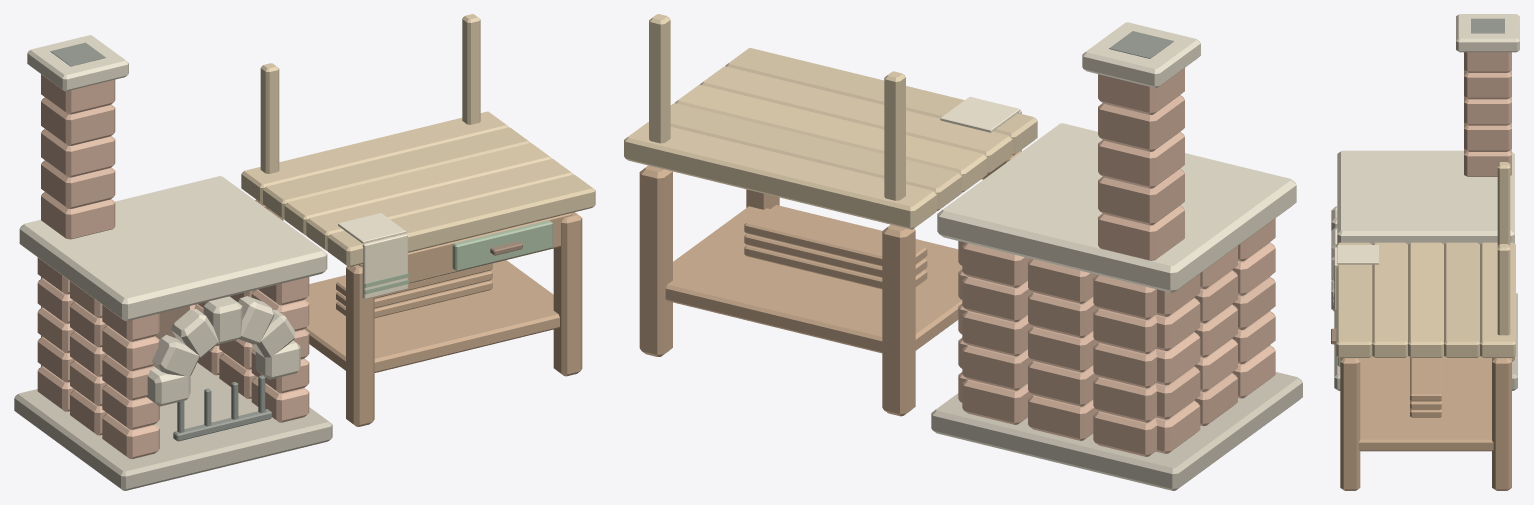
The model's file is crafted-kitchen-upgrading.glb.
3 renders of one model, left to right at view 1: azimuth 30°, elevation 25°; view 2: azimuth 150°, elevation 25°; view 3: azimuth 270°, elevation 25°, orthographic. The views are drawn at different scales.
Visible parts, largest first — view 1: stove-top, hearth, shelf, worktop-plank-4, worktop-plank-2, worktop-plank-1, worktop-plank, worktop-plank-3, table-leg-3, table-leg-1, chimney-cap, drawer-front (+41 smaller); view 2: stove-top, shelf, hearth, worktop-plank, worktop-plank-2, worktop-plank-3, worktop-plank-1, table-leg, table-leg-2, worktop-plank-4, chimney-cap, spare-shelf-2 (+41 smaller); view 3: stove-top, shelf, worktop-plank-1, worktop-plank-2, worktop-plank-3, worktop-plank-4, worktop-plank, table-leg-3, table-leg-2, chimney-cap, spare-shelf-2, chimney-course-2 (+11 smaller).
Part boxes in pixels (x1=…): stove-top: x1=19, y1=176, x2=327, y2=321; hearth: x1=14, y1=363, x2=332, y2=490; shelf: x1=304, y1=260, x2=559, y2=372; worktop-plank-4: x1=327, y1=174, x2=595, y2=266; worktop-plank-2: x1=284, y1=143, x2=552, y2=235; worktop-plank-1: x1=263, y1=127, x2=530, y2=219; worktop-plank: x1=241, y1=111, x2=508, y2=203; worktop-plank-3: x1=306, y1=159, x2=573, y2=250; table-leg-3: x1=553, y1=212, x2=582, y2=376; table-leg-1: x1=346, y1=265, x2=374, y2=426; chimney-cap: x1=27, y1=35, x2=128, y2=91; drawer-front: x1=452, y1=220, x2=552, y2=271; stove-top: x1=937, y1=123, x2=1296, y2=292; shelf: x1=665, y1=205, x2=962, y2=353; hearth: x1=931, y1=372, x2=1302, y2=490; worktop-plank: x1=624, y1=122, x2=936, y2=229; worktop-plank-2: x1=675, y1=85, x2=987, y2=192; worktop-plank-3: x1=699, y1=66, x2=1012, y2=173; worktop-plank-1: x1=670, y1=103, x2=961, y2=210; table-leg: x1=882, y1=224, x2=915, y2=416; table-leg-2: x1=639, y1=165, x2=672, y2=356; worktop-plank-4: x1=725, y1=48, x2=1037, y2=155; chimney-cap: x1=1082, y1=22, x2=1200, y2=87; spare-shelf-2: x1=744, y1=208, x2=927, y2=266; stove-top: x1=1337, y1=150, x2=1514, y2=244; shelf: x1=1358, y1=356, x2=1493, y2=451; worktop-plank-1: x1=1444, y1=242, x2=1479, y2=357; worktop-plank-2: x1=1408, y1=242, x2=1443, y2=357; worktop-plank-3: x1=1372, y1=242, x2=1407, y2=357; worktop-plank-4: x1=1336, y1=242, x2=1372, y2=357; worktop-plank: x1=1480, y1=242, x2=1515, y2=357; table-leg-3: x1=1340, y1=358, x2=1360, y2=490; table-leg-2: x1=1492, y1=358, x2=1511, y2=490; chimney-cap: x1=1456, y1=14, x2=1519, y2=52; spare-shelf-2: x1=1410, y1=357, x2=1441, y2=401; chimney-course-2: x1=1464, y1=96, x2=1511, y2=125.
Bounding box in the file's own units: 2.29 × 1.66 × 0.946.
